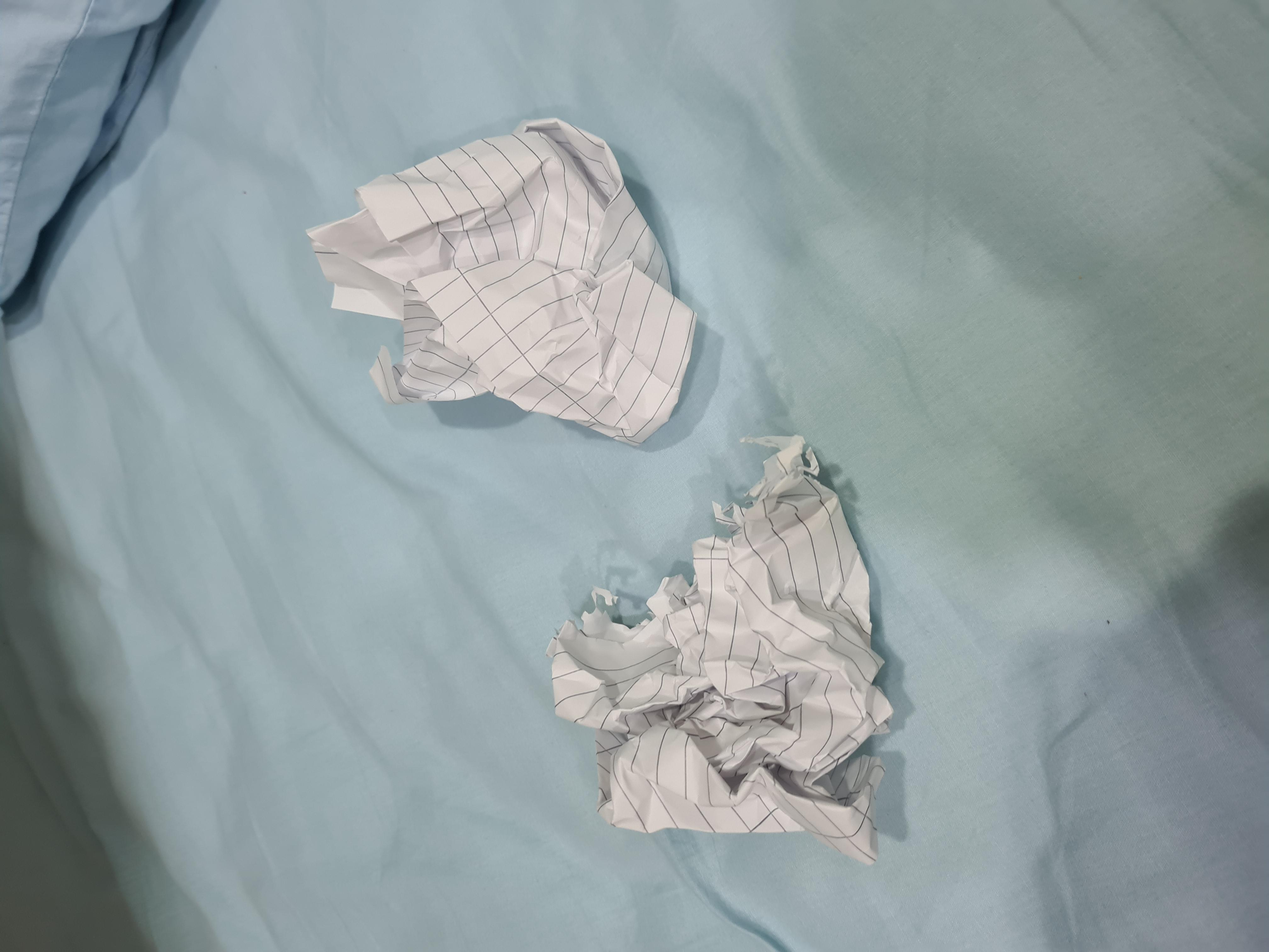paper: (144, 416, 601, 674), (694, 237, 1117, 515)
